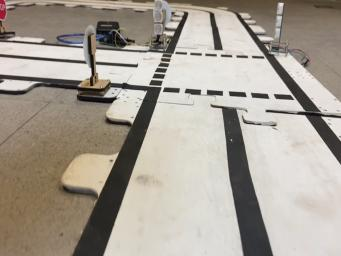street: (70, 11, 341, 256), (70, 11, 341, 256), (70, 11, 341, 256), (70, 11, 341, 256), (70, 11, 341, 256), (70, 11, 341, 256), (0, 41, 91, 86), (0, 41, 91, 86), (0, 41, 91, 86), (0, 41, 91, 86), (0, 41, 91, 86), (0, 41, 91, 86)
traffic_light: (149, 0, 171, 50), (149, 0, 171, 50), (149, 0, 171, 50), (149, 0, 171, 50), (149, 0, 171, 50), (149, 0, 171, 50), (269, 3, 288, 56), (269, 3, 288, 56), (269, 3, 288, 56), (269, 3, 288, 56), (269, 3, 288, 56), (269, 3, 288, 56)
